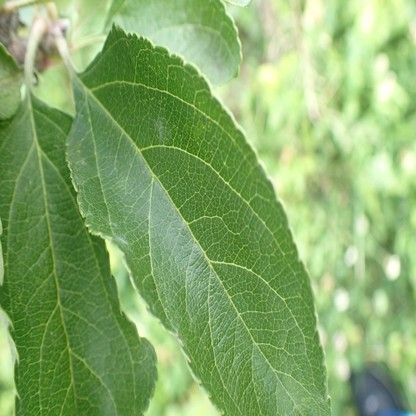powdery_mildew: (111, 221, 130, 245), (157, 121, 164, 141), (79, 157, 87, 167)
